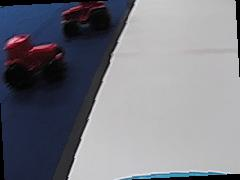Tracktor: (2, 29, 67, 86), (59, 0, 110, 35)
